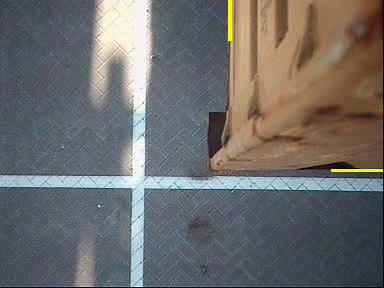groundmarker_2: (109, 139, 196, 191)
